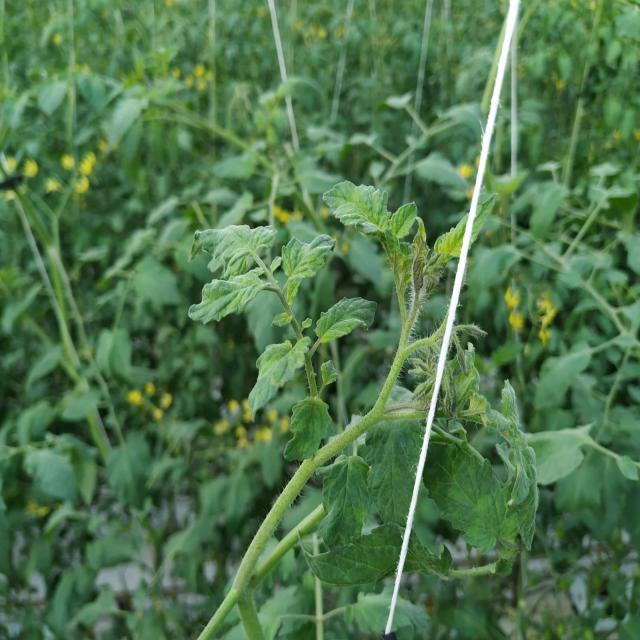T_L_H: (425, 443, 519, 554), (306, 524, 405, 586), (367, 421, 423, 528), (317, 455, 372, 548), (190, 225, 277, 279), (324, 181, 392, 234), (406, 533, 452, 578)
T_L_R: (250, 338, 311, 414), (189, 268, 266, 323), (285, 398, 332, 461), (316, 299, 377, 344), (284, 236, 336, 279), (435, 216, 469, 259), (471, 194, 499, 246), (390, 203, 419, 239)
T_S_H: (251, 504, 326, 591)
T_S_R: (235, 409, 382, 594), (375, 308, 421, 414)
